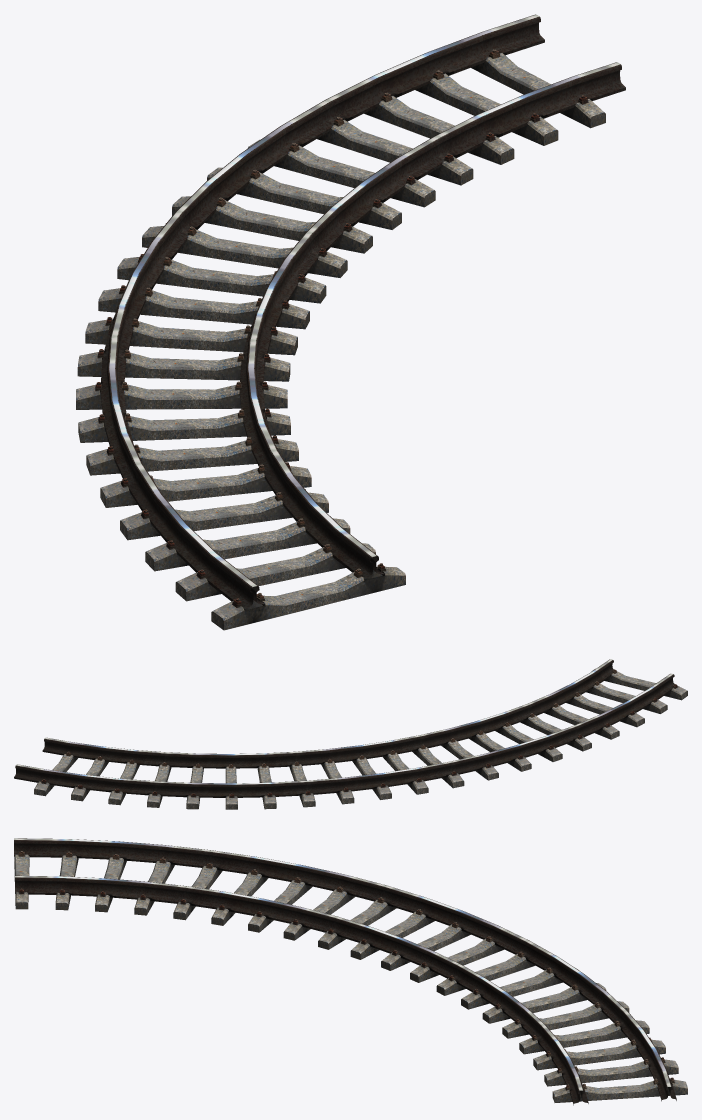
The model's file is Beton_rail_-85.FBX.
3 renders of one model, top to bottom at view 1: azimuth 30°, elevation 25°; view 2: azimuth 150°, elevation 25°; view 3: azimuth 270°, elevation 25°, orthographic. The views are drawn at different scales.
Visible parts, largest first — view 1: Beton_rail_-85_LOD0; view 2: Beton_rail_-85_LOD0; view 3: Beton_rail_-85_LOD0.
Boxes of the visible parts, x1=… form: Beton_rail_-85_LOD0: x1=76, y1=14, x2=625, y2=630; Beton_rail_-85_LOD0: x1=14, y1=659, x2=687, y2=809; Beton_rail_-85_LOD0: x1=14, y1=838, x2=687, y2=1105.
Size of what is drawn, in the model's own units: 11.58 by 12.61 by 0.4774.
